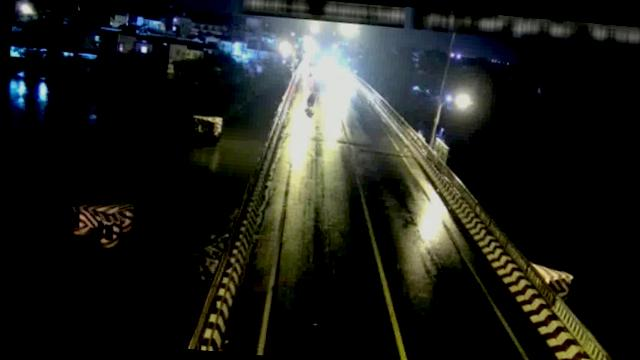Bike: (304, 92, 317, 114)
